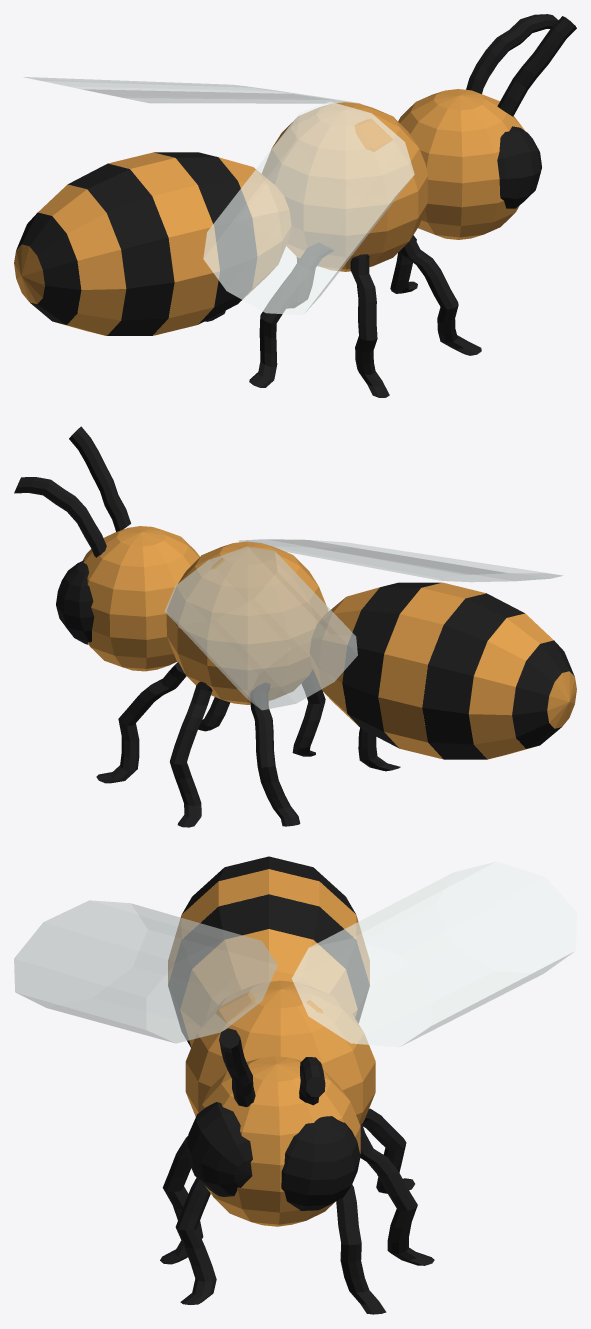
The model's file is Bee.glb.
3 renders of one model, top to bottom at view 1: azimuth 30°, elevation 25°; view 2: azimuth 150°, elevation 25°; view 3: azimuth 270°, elevation 25°, orthographic. The views are drawn at different scales.
Visible parts, largest first — view 1: group165695018, group1147170821, group1747397838; view 2: group165695018, group1147170821, group1747397838; view 3: group1747397838, group165695018, group1147170821.
Part boxes in pixels (bbox=[...]): group165695018: bbox=[14, 89, 524, 335]; group1147170821: bbox=[16, 14, 576, 397]; group1747397838: bbox=[23, 77, 414, 315]; group165695018: bbox=[83, 526, 576, 759]; group1147170821: bbox=[14, 426, 574, 827]; group1747397838: bbox=[165, 539, 562, 710]; group1747397838: bbox=[14, 861, 576, 1047]; group165695018: bbox=[168, 869, 375, 1226]; group1147170821: bbox=[160, 856, 434, 1314].
Size of the model in its own units: 0.3391 by 0.1792 by 0.2624.
